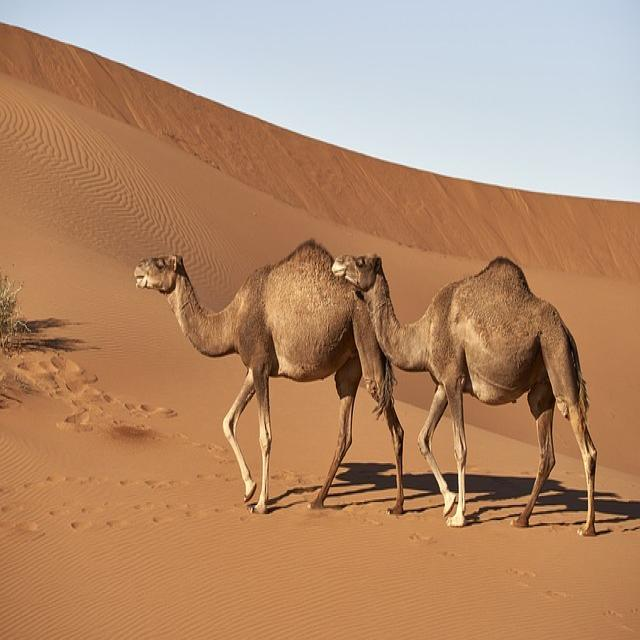Herbivorous: (334, 252, 597, 535), (135, 243, 402, 511)
